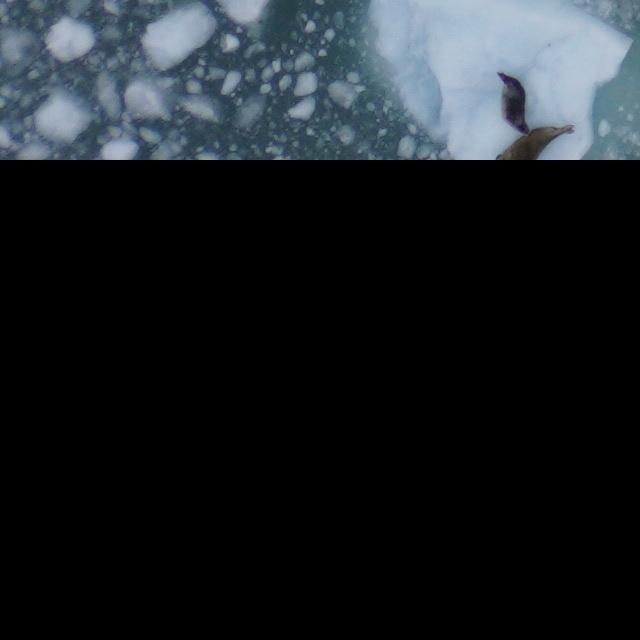seal: (489, 121, 583, 160), (494, 67, 535, 138)
